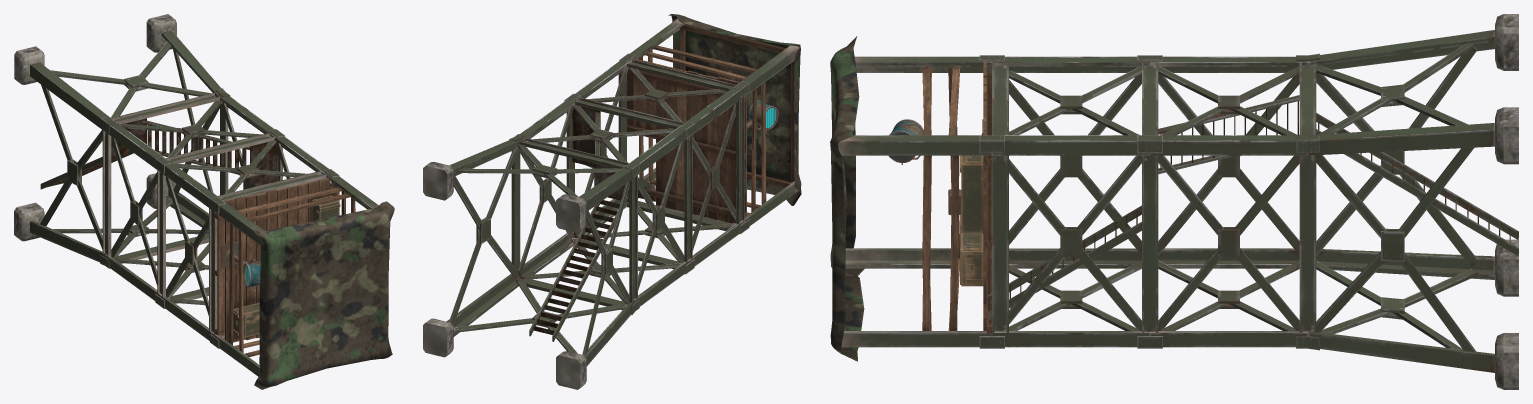
File: watch-tower-042f32.glb
The picture shows the model from 3 angles, left to right: view 1: azimuth 30°, elevation 25°; view 2: azimuth 150°, elevation 25°; view 3: azimuth 270°, elevation 25°; orthographic projection. The views are drawn at different scales.
Parts seen in each view (by area): view 1: PropMesh; view 2: PropMesh; view 3: PropMesh.
Part boxes in pixels (x1,y1,x2,y2): PropMesh: (14, 14, 394, 389); PropMesh: (423, 14, 801, 389); PropMesh: (830, 14, 1518, 389).
Size of the model in its own units: 1.93 by 2.2 by 5.1.
Materials: 1 (1 with a texture image).
